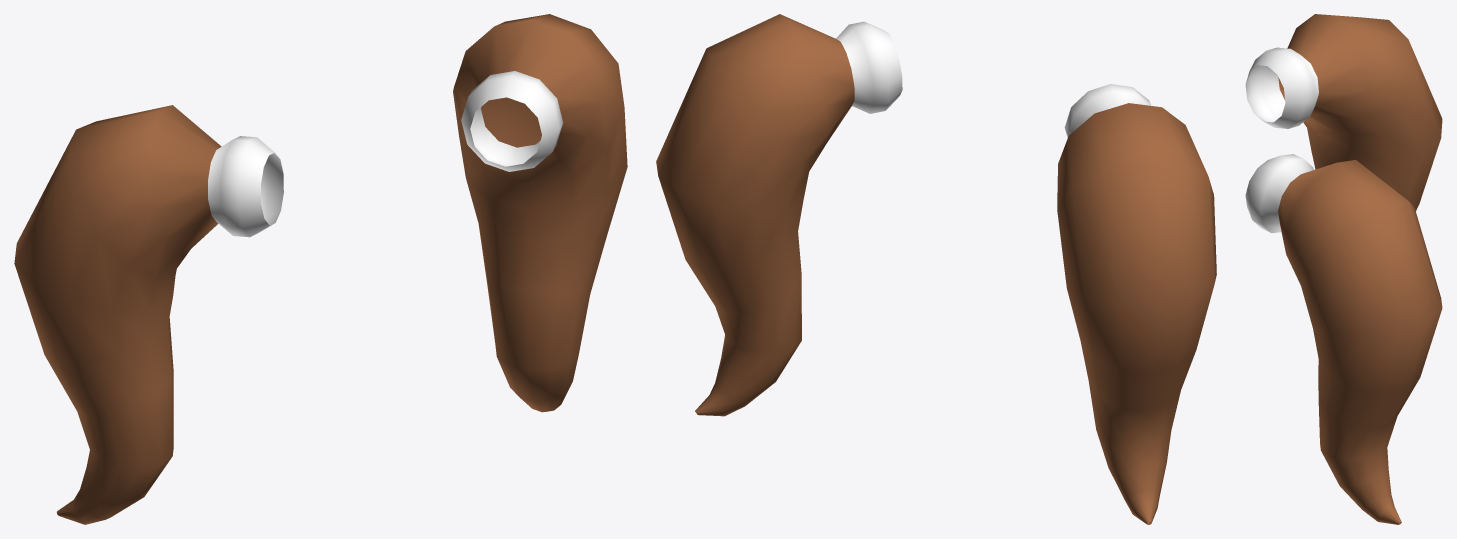
File: hair_pigtail.glb
3 views of the same model, side by side, from view 1: azimuth 30°, elevation 25°; view 2: azimuth 150°, elevation 25°; view 3: azimuth 270°, elevation 25° (orthographic). The views are drawn at different scales.
Parts seen in each view (by area): view 1: hairPigTail; view 2: hairPigTail; view 3: hairPigTail.
Part boxes in pixels (<box>): hairPigTail: <box>14,14,627,524</box>; hairPigTail: <box>656,14,1216,524</box>; hairPigTail: <box>1245,14,1442,524</box>.
Size of the model in its own units: 1.37 by 0.9318 by 0.4873.
